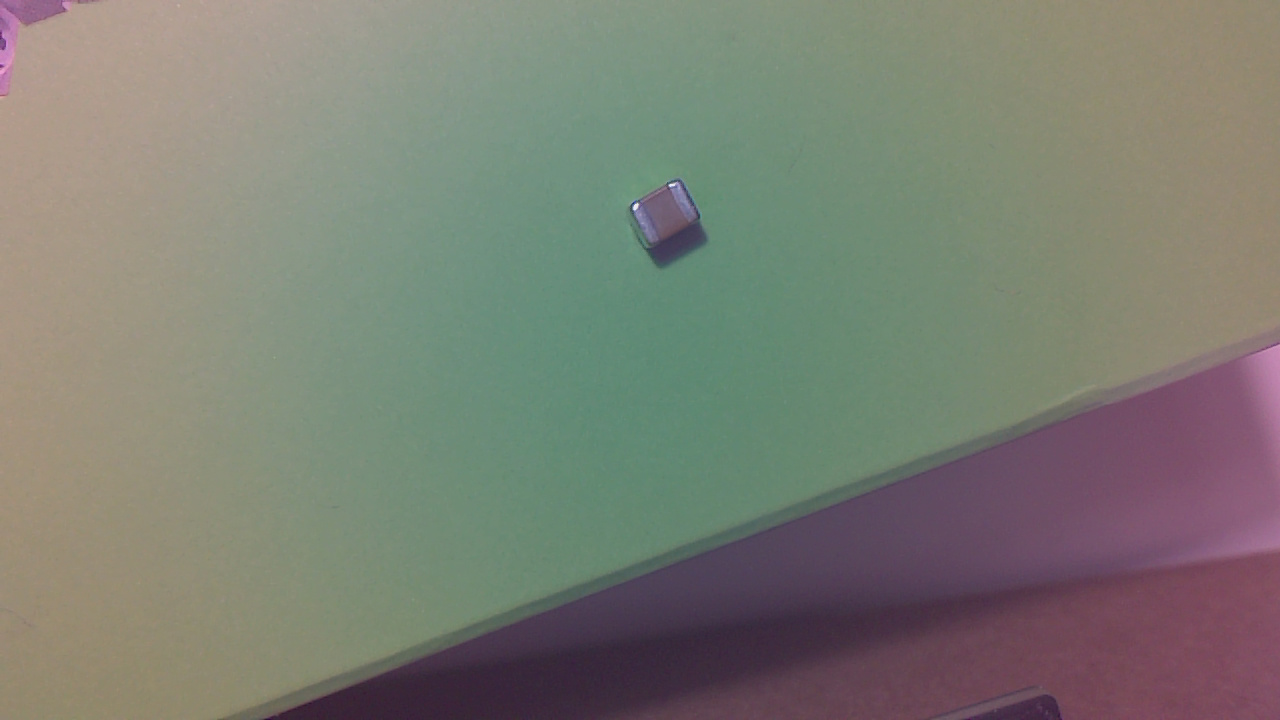Condensator: (634, 184, 706, 254)
